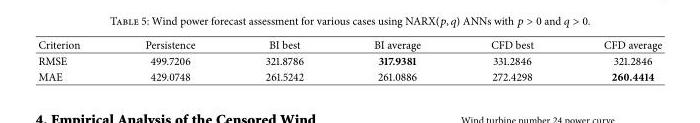table: (37, 36, 661, 83)
table column: (111, 36, 229, 83), (338, 36, 455, 83), (455, 36, 567, 83), (229, 36, 338, 83), (567, 36, 661, 83), (37, 36, 111, 83)
table column header: (37, 36, 661, 52)
table row: (37, 36, 661, 52), (37, 52, 661, 68), (37, 68, 661, 83)
